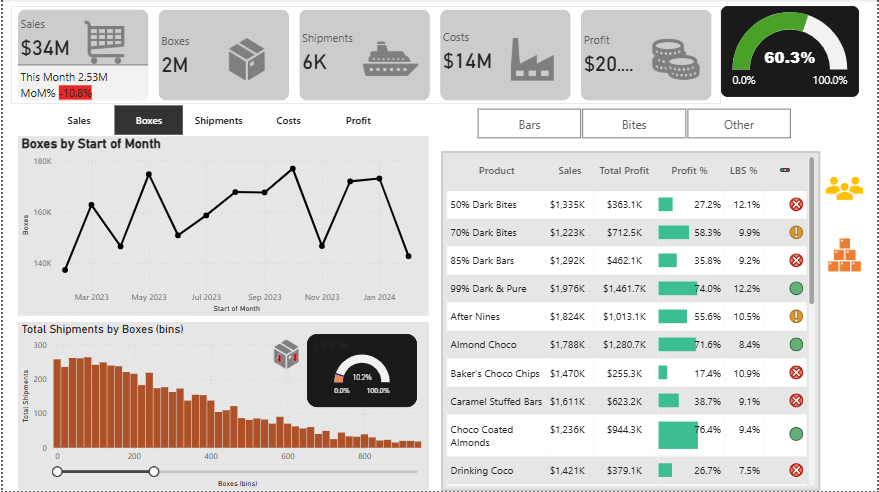

This screenshot's page, from the dashboard's own definition file:
{"tool":"powerbi","page":{"name":"Home","canvas":[1280,720],"ordinal":1},"visuals":[{"type":"cardVisual","fields":{"Data":["_Measures.Total Sales","_Measures.Total Boxes","_Measures.Total Shipments","_Measures.Total Costs","_Measures.Total Profit"]},"box":[11.7,10.2,1039,143.4],"z":0},{"type":"gauge","fields":{"Y":["_Measures.Profit %"]},"box":[1050.7,10.2,202,133.2],"z":1000},{"type":"lineChart","fields":{"Y":["_Measures.Total Boxes"],"Category":["calendar.Start of Month"]},"box":[22,200.5,601.5,263.4],"z":2000},{"type":"slicer","fields":{"Values":["Measure Selector.Measure Selector"]},"box":[35.1,153.7,559,46.8],"z":3000},{"type":"columnChart","fields":{"Category":["shipments.Boxes (bins)"],"Y":["_Measures.Total Shipments"]},"box":[22,473,601,247],"z":4000},{"type":"gauge","fields":{"Y":["_Measures.LBS %"]},"box":[445.4,489.8,161.3,106.5],"z":5000},{"type":"image","box":[371.7,489.1,86.2,62.4],"z":6000},{"type":"tableEx","title":"Product details","fields":{"Values":["products.Product","_Measures.Total Sales","_Measures.Total Profit","_Measures.Profit %","_Measures.LBS %","_Measures.Profit Target Indicator"]},"box":[641,222.4,554.6,497.6],"z":8000},{"type":"image","box":[1195.6,240,71.7,74.6],"z":9000},{"type":"image","box":[1195.6,332.2,71.7,84.9],"z":10000},{"type":"slicer","fields":{"Values":["products.Category"]},"box":[668.8,153.7,507.8,57.1],"z":11000}]}

Visuals, with their boxes in screenshot pixels (x1, y1, x2, y2), scaled from the page's 1280x720 canvas onto the 879x492 screenshot:
cardVisual - _Measures.Total Sales x _Measures.Total Boxes: box=[8, 7, 722, 105]
gauge - _Measures.Profit %: box=[722, 7, 860, 98]
lineChart - _Measures.Total Boxes x calendar.Start of Month: box=[15, 137, 428, 317]
slicer - Measure Selector.Measure Selector: box=[24, 105, 408, 137]
columnChart - shipments.Boxes (bins) x _Measures.Total Shipments: box=[15, 323, 428, 491]
gauge - _Measures.LBS %: box=[306, 335, 417, 407]
image: box=[255, 334, 314, 377]
"Product details" tableEx: box=[440, 152, 821, 491]
image: box=[821, 164, 870, 215]
image: box=[821, 227, 870, 285]
slicer - products.Category: box=[459, 105, 808, 144]
